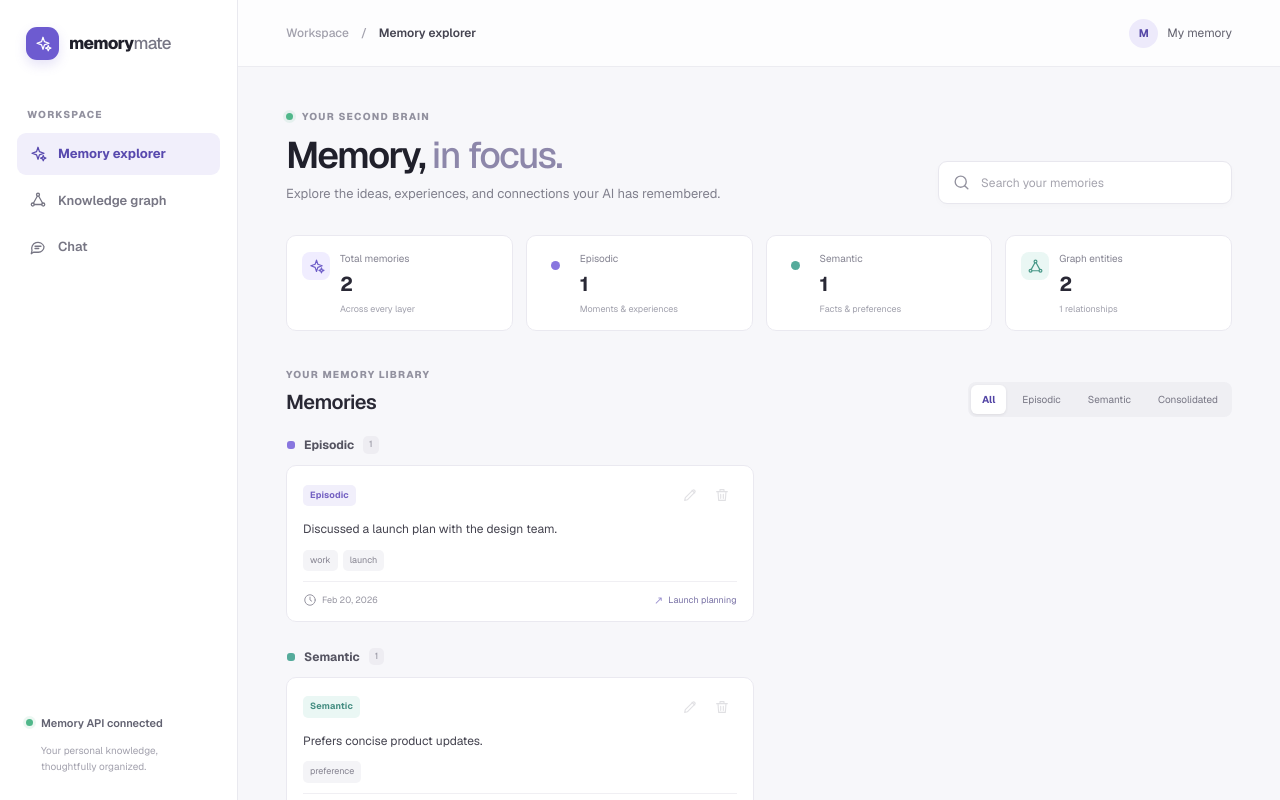
Scenario: MemoryExplorer › persists deletion and removes the memory from the library
The image size is (1280, 800).
Check: the text "Prefers concise product updates." is shown, box [303,733,482,749]
Click the button named "Delete memory: Prefers concise product updates.". click: (722, 707)
box: [708,693,736,722]
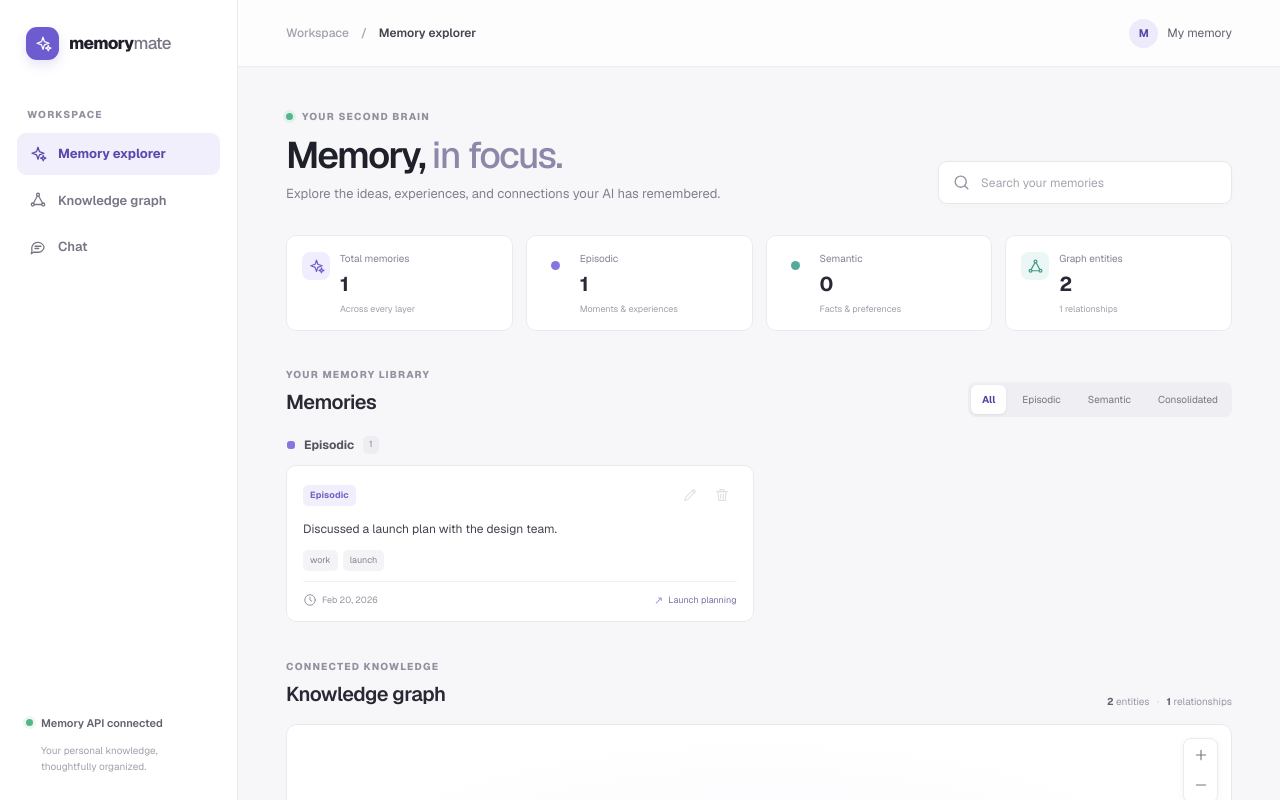
Check: the text "Prefers concise product updates." is gone
